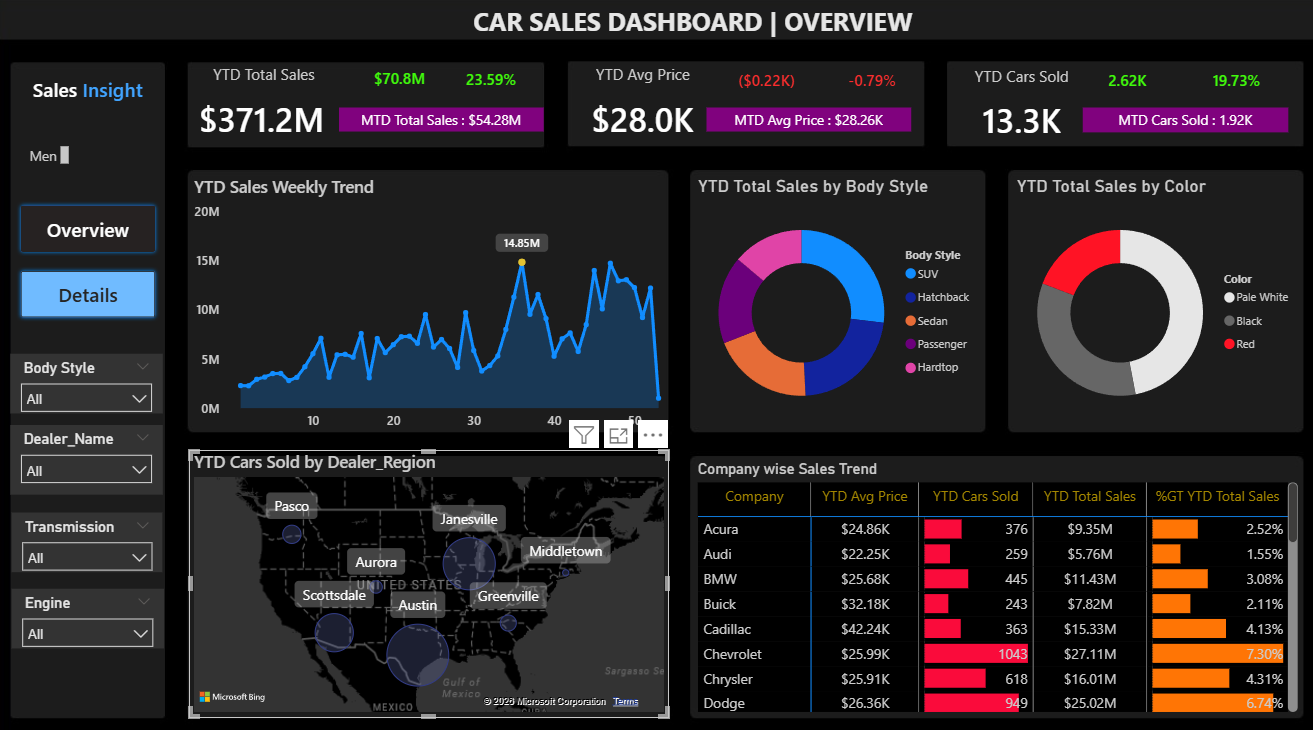

Layout of this report page (visuals, bound fields, positions):
{"tool":"powerbi","page":{"name":"Overview","canvas":[1280,720],"ordinal":0},"visuals":[{"type":"cardVisual","title":"YTD Total Sales","fields":{"Data":["car_data.YTD Total Sales"]},"box":[168.9,66.4,183.4,83.2],"z":0},{"type":"cardVisual","title":"YTD Total Sales","fields":{"Data":["car_data.Sales Difference"]},"box":[338,51,109,57],"z":1000},{"type":"cardVisual","title":"YTD Total Sales","fields":{"Data":["car_data.YOY Sales Growth"]},"box":[425.7,51.4,108.6,57.1],"z":2000},{"type":"cardVisual","title":"YTD Avg Price","fields":{"Data":["car_data.YTD Avg Price"]},"box":[535,66.2,183.8,83.8],"z":3000},{"type":"cardVisual","title":"YTD Total Sales","fields":{"Data":["car_data.Avg Price Diff"]},"box":[687.5,52.5,116.2,56.2],"z":4000},{"type":"cardVisual","title":"YTD Total Sales","fields":{"Data":["car_data.YoY Avg Price Growth"]},"box":[795,52.5,105,57.5],"z":5000},{"type":"cardVisual","fields":{"Data":["car_data.MDI Avg Price KPI"]},"box":[687.5,109.2,197.5,23.3],"z":6000},{"type":"cardVisual","fields":{"Data":["car_data.MDI KPI"]},"box":[333.3,109.2,197.5,23.3],"z":7000},{"type":"cardVisual","title":"YTD Cars Sold","fields":{"Data":["car_data.YTD Cars Sold"]},"box":[900,67.5,184.2,83.3],"z":8000},{"type":"cardVisual","title":"YTD Total Sales","fields":{"Data":["car_data.Cars Sold Diff"]},"box":[1050.9,60,86.4,40],"z":9000},{"type":"cardVisual","title":"YTD Total Sales","fields":{"Data":["car_data.YoY Cars Sold Growth"]},"box":[1150,60,99.1,40],"z":10000},{"type":"cardVisual","fields":{"Data":["car_data.MTD Cars Sold KPI"]},"box":[1050.9,109.1,198.2,23.6],"z":11000},{"type":"areaChart","title":"YTD Sales Weekly Trend","fields":{"Category":["Calendar Table.Week"],"Y":["Sum(car_data.Price ($))","car_data.Max Point"]},"box":[188,174.3,476.2,255.2],"z":12000},{"type":"donutChart","fields":{"Category":["car_data.Body Style"],"Y":["car_data.YTD Total Sales"]},"box":[674.4,173.7,281.1,247.3],"z":13000},{"type":"donutChart","fields":{"Category":["car_data.Color"],"Y":["car_data.YTD Total Sales"]},"box":[982,173.7,281.1,247.3],"z":14000},{"type":"map","fields":{"Category":["car_data.Dealer_Region"],"Size":["car_data.YTD Cars Sold"]},"box":[188.2,439.1,463.3,258.2],"z":15000},{"type":"pivotTable","title":"Company wise Sales Trend","fields":{"Rows":["car_data.Company"],"Values":["car_data.YTD Avg Price","car_data.YTD Cars Sold","car_data.YTD Total Sales","Divide(car_data.YTD Total Sales, ScopedEval(car_data.YTD Total Sales, []))"]},"box":[674.4,448.8,588.7,248.5],"z":16000},{"type":"textbox","box":[451.2,4.8,446.4,45.8],"z":17000},{"type":"slicer","fields":{"Values":["car_data.Body Style"]},"box":[15.7,346.2,147.2,57.9],"z":18000},{"type":"slicer","fields":{"Values":["car_data.Dealer_Name"]},"box":[15.7,415,147.2,67.6],"z":19000},{"type":"slicer","fields":{"Values":["car_data.Transmission"]},"box":[16.9,499.5,146,57.9],"z":20000},{"type":"slicer","fields":{"Values":["car_data.Engine"]},"box":[16.9,573.1,147.2,57.9],"z":21000},{"type":"pageNavigator","box":[21.7,199.1,138.7,117],"z":21001},{"type":"textbox","box":[26.5,73.6,127.9,35],"z":21002},{"type":"textbox","box":[26.5,141.2,50.7,31.4],"z":21003}]}

Visuals, with their boxes on the page's 1280x720 design canvas (x1, y1, x2, y2). These are canvas units, not pixel positions in the 1313x730 screenshot, which may show the page scaled, cropped or inside an application window:
"YTD Total Sales" cardVisual: [169, 66, 352, 150]
"YTD Total Sales" cardVisual: [338, 51, 447, 108]
"YTD Total Sales" cardVisual: [426, 51, 534, 108]
"YTD Avg Price" cardVisual: [535, 66, 719, 150]
"YTD Total Sales" cardVisual: [688, 52, 804, 109]
"YTD Total Sales" cardVisual: [795, 52, 900, 110]
cardVisual - car_data.MDI Avg Price KPI: [688, 109, 885, 132]
cardVisual - car_data.MDI KPI: [333, 109, 531, 132]
"YTD Cars Sold" cardVisual: [900, 68, 1084, 151]
"YTD Total Sales" cardVisual: [1051, 60, 1137, 100]
"YTD Total Sales" cardVisual: [1150, 60, 1249, 100]
cardVisual - car_data.MTD Cars Sold KPI: [1051, 109, 1249, 133]
"YTD Sales Weekly Trend" areaChart: [188, 174, 664, 430]
donutChart - car_data.Body Style x car_data.YTD Total Sales: [674, 174, 956, 421]
donutChart - car_data.Color x car_data.YTD Total Sales: [982, 174, 1263, 421]
map - car_data.Dealer_Region x car_data.YTD Cars Sold: [188, 439, 652, 697]
"Company wise Sales Trend" pivotTable: [674, 449, 1263, 697]
textbox: [451, 5, 898, 51]
slicer - car_data.Body Style: [16, 346, 163, 404]
slicer - car_data.Dealer_Name: [16, 415, 163, 483]
slicer - car_data.Transmission: [17, 500, 163, 557]
slicer - car_data.Engine: [17, 573, 164, 631]
pageNavigator: [22, 199, 160, 316]
textbox: [26, 74, 154, 109]
textbox: [26, 141, 77, 173]
